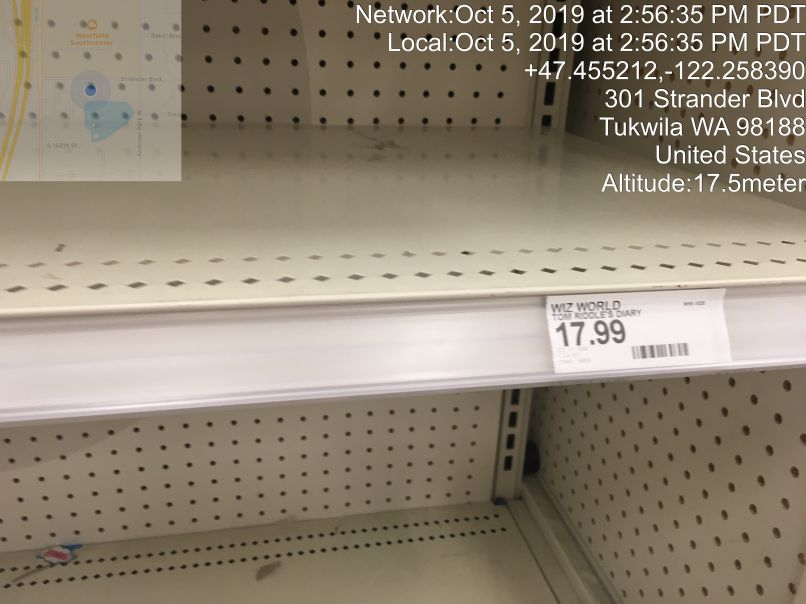Label: (541, 288, 756, 376)
Location: (593, 83, 806, 168)
Time: (350, 1, 806, 56)
Void: (12, 37, 497, 266), (32, 440, 725, 591)
